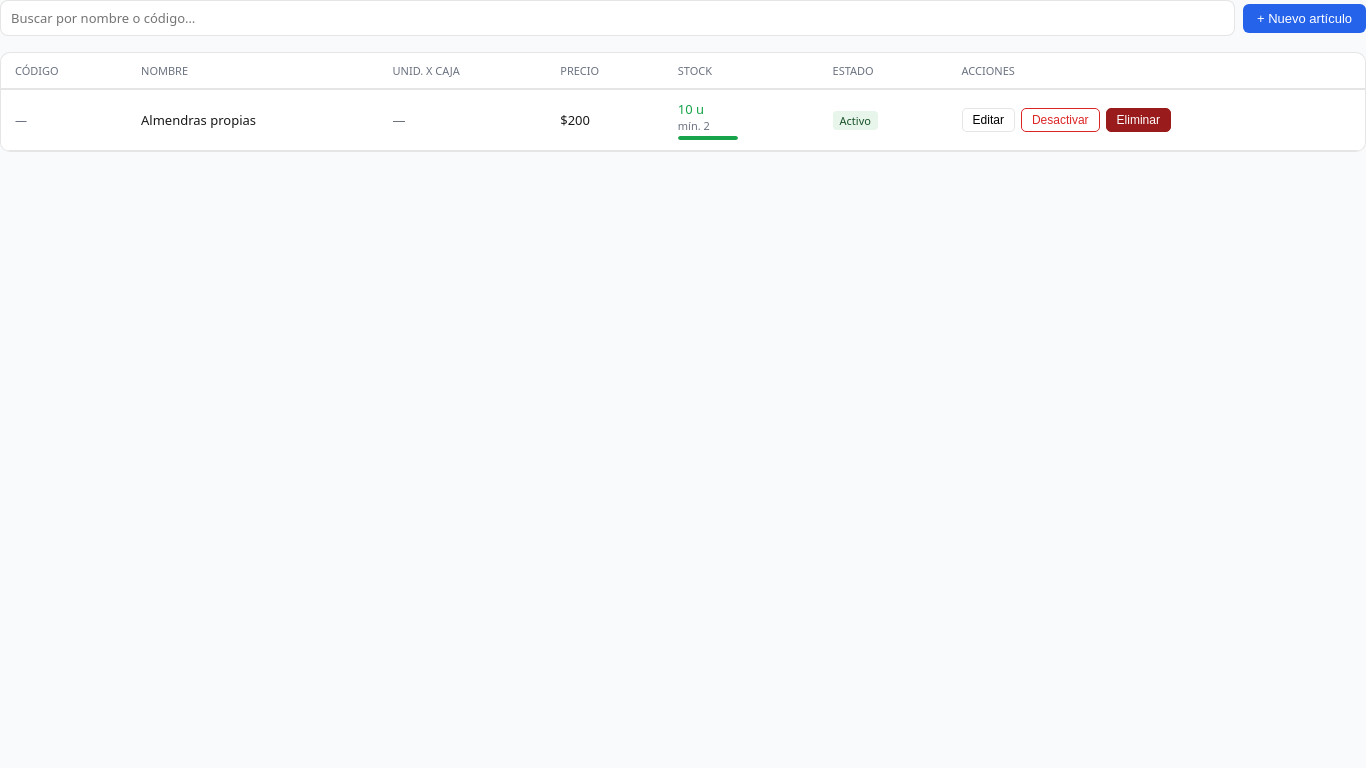
Test case: Dietética usa carga manual y stock obligatorio
Expected: the text "Almendras propias" is shown, [127,89,378,150]
Click the button "+ Nuevo artículo".
click(1304, 18)  # box [1243,4,1365,32]
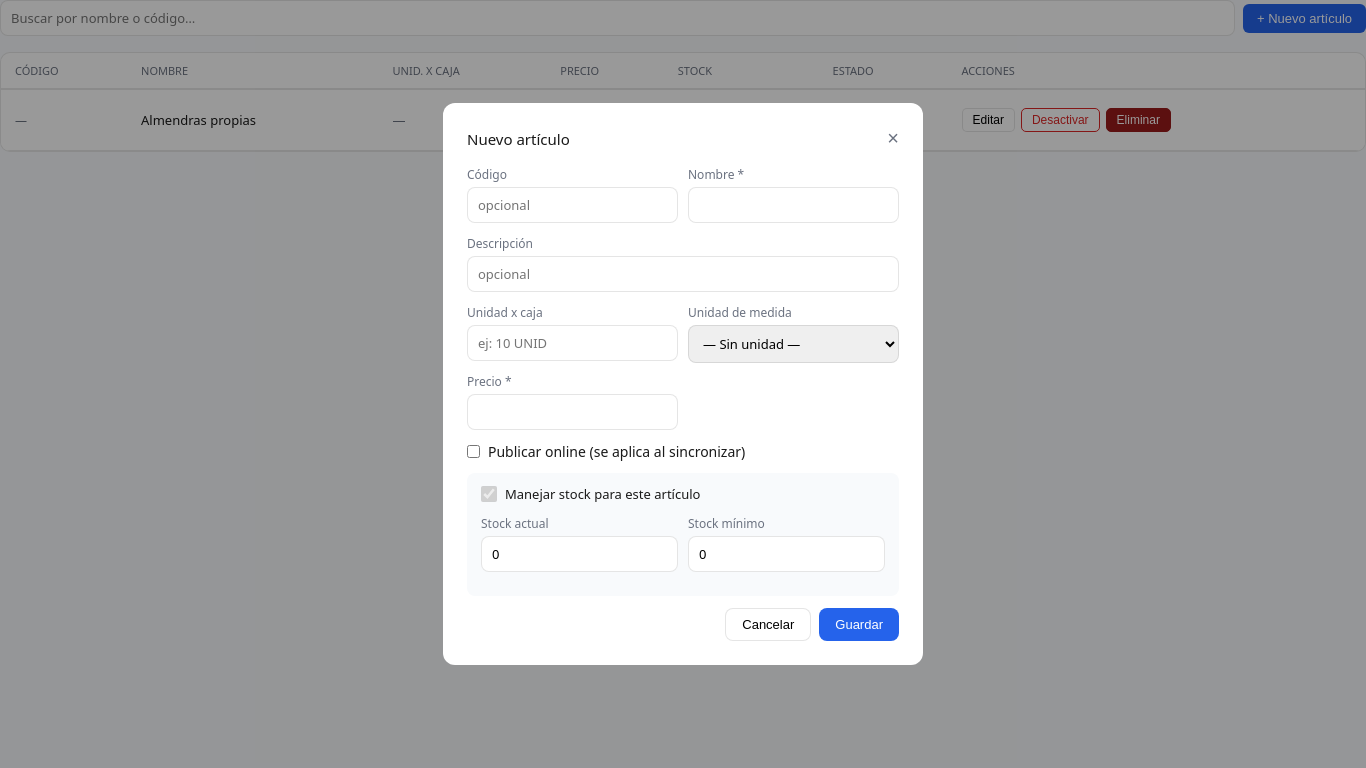
Result: the checkbox labelled "Manejar stock para este artículo" is checked at [481,486,497,502]
Result: the checkbox labelled "Manejar stock para este artículo" is disabled at [481,486,497,502]
Result: the text "Stock actual" is shown at [481,515,548,532]
